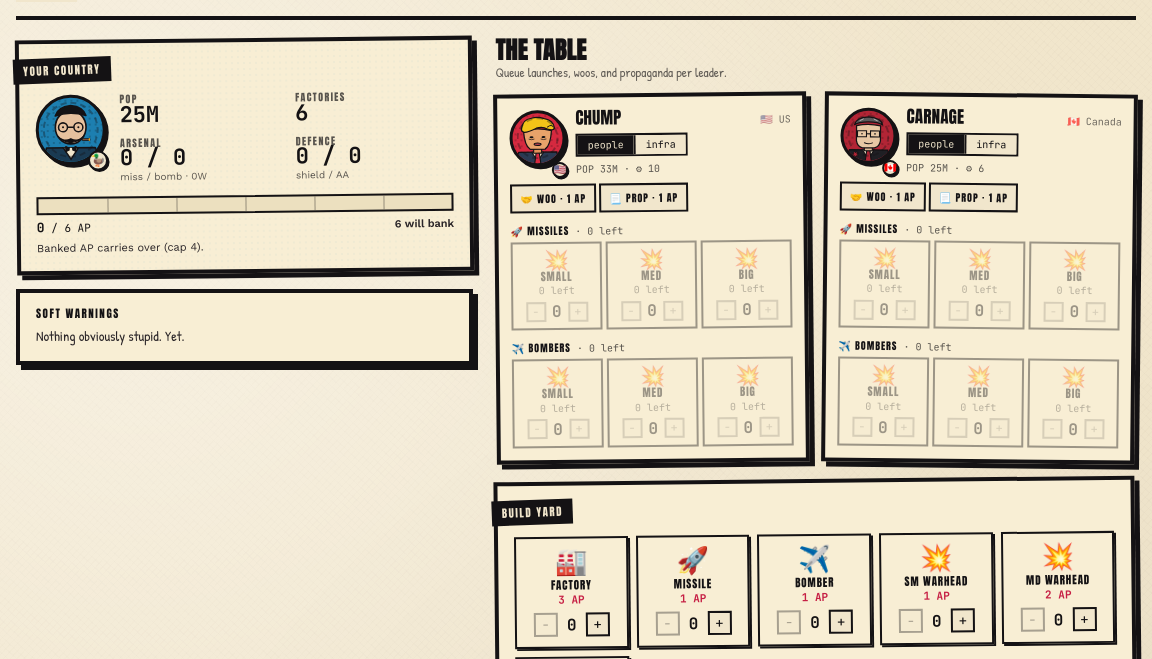
Test: <Planning> orders queue › removing the last order restores the empty state
The width and height of the screenshot is (1152, 659).
What coordinates should you click on to do the following:
click the button named "add Missile"
I would click on:
 (720, 624)
Its box is [708, 612, 732, 636].
(page scrolled)
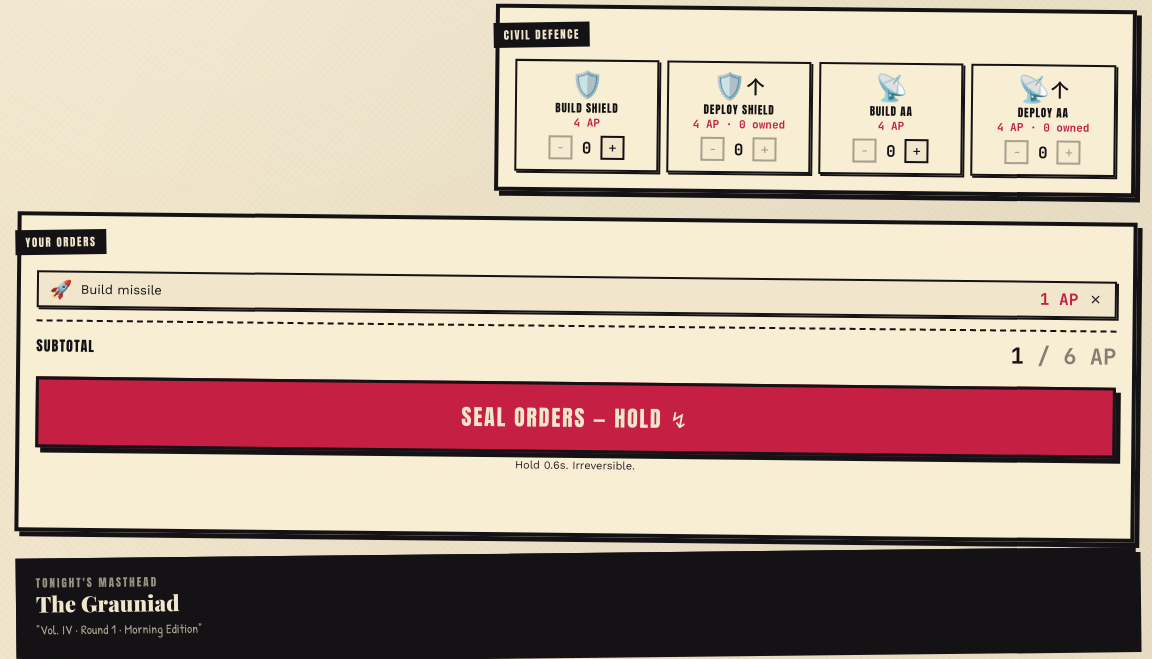
What coordinates should you click on to do the following:
click the button named "remove"
I would click on:
 (1096, 300)
Its box is [1086, 289, 1105, 310].
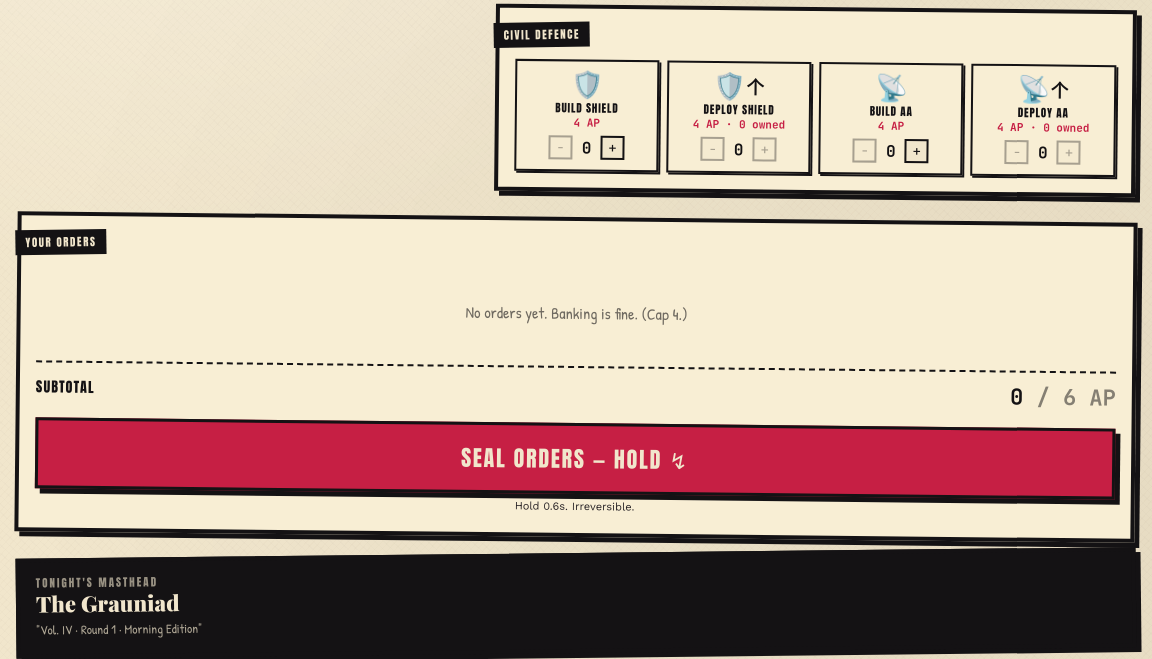
Check: the text "No orders yet. Banking is fine. (Cap 4.)" is shown, box [466, 300, 688, 325]
